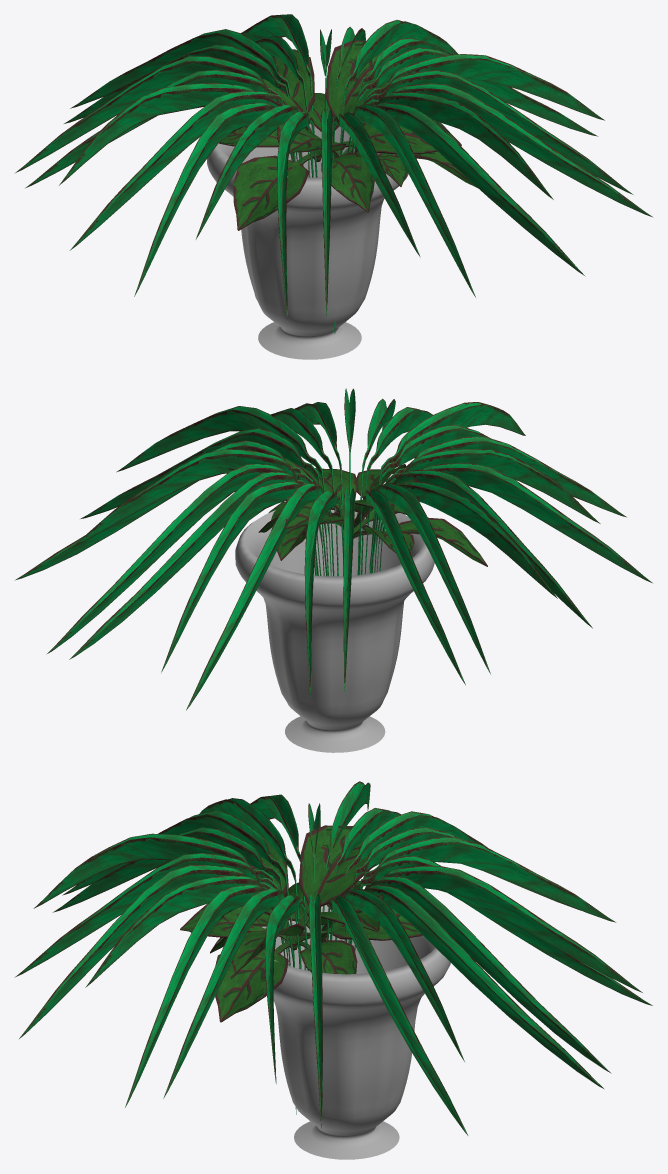
File: pot_3.fbx
The picture shows the model from 3 angles, top to bottom: view 1: azimuth 30°, elevation 25°; view 2: azimuth 150°, elevation 25°; view 3: azimuth 270°, elevation 25°; orthographic projection. The views are drawn at different scales.
Visible parts, largest first — view 1: pasted__pasted__group23_pasted__group11_pasted__pasted__grou, pasted__group23_pasted__group11_pasted__pasted__group5_paste, pasted__pasted__pSphere1, pasted__pasted__pPlane7, pasted__pasted__pasted__pPlane7, pasted__pPlane7; view 2: pasted__pasted__group23_pasted__group11_pasted__pasted__grou, pasted__group23_pasted__group11_pasted__pasted__group5_paste, pasted__pasted__pSphere1, pasted__pasted__pasted__pPlane7, pasted__pPlane7, pasted__pasted__pPlane7; view 3: pasted__pasted__group23_pasted__group11_pasted__pasted__grou, pasted__group23_pasted__group11_pasted__pasted__group5_paste, pasted__pasted__pSphere1, pasted__pPlane7, pasted__pasted__pPlane7, pasted__pasted__pasted__pPlane7.
Boxes of the visible parts, <box> form: pasted__pasted__group23_pasted__group11_pasted__pasted__grou: <box>14,14,653,320</box>; pasted__group23_pasted__group11_pasted__pasted__group5_paste: <box>25,20,633,333</box>; pasted__pasted__pSphere1: <box>207,123,408,359</box>; pasted__pasted__pPlane7: <box>219,40,461,230</box>; pasted__pasted__pasted__pPlane7: <box>219,40,461,228</box>; pasted__pPlane7: <box>262,78,477,187</box>; pasted__pasted__group23_pasted__group11_pasted__pasted__grou: <box>14,398,652,697</box>; pasted__group23_pasted__group11_pasted__pasted__group5_paste: <box>69,388,600,710</box>; pasted__pasted__pSphere1: <box>235,510,434,752</box>; pasted__pasted__pasted__pPlane7: <box>228,459,487,566</box>; pasted__pPlane7: <box>258,464,420,560</box>; pasted__pasted__pPlane7: <box>232,458,487,566</box>; pasted__pasted__group23_pasted__group11_pasted__pasted__grou: <box>19,781,642,1135</box>; pasted__group23_pasted__group11_pasted__pasted__group5_paste: <box>14,798,652,1128</box>; pasted__pasted__pSphere1: <box>262,905,450,1159</box>; pasted__pPlane7: <box>180,825,422,1022</box>; pasted__pasted__pPlane7: <box>210,880,383,973</box>; pasted__pasted__pasted__pPlane7: <box>210,883,383,973</box>.
Size of the model in its own units: 14.99 by 7.5 by 15.37.
